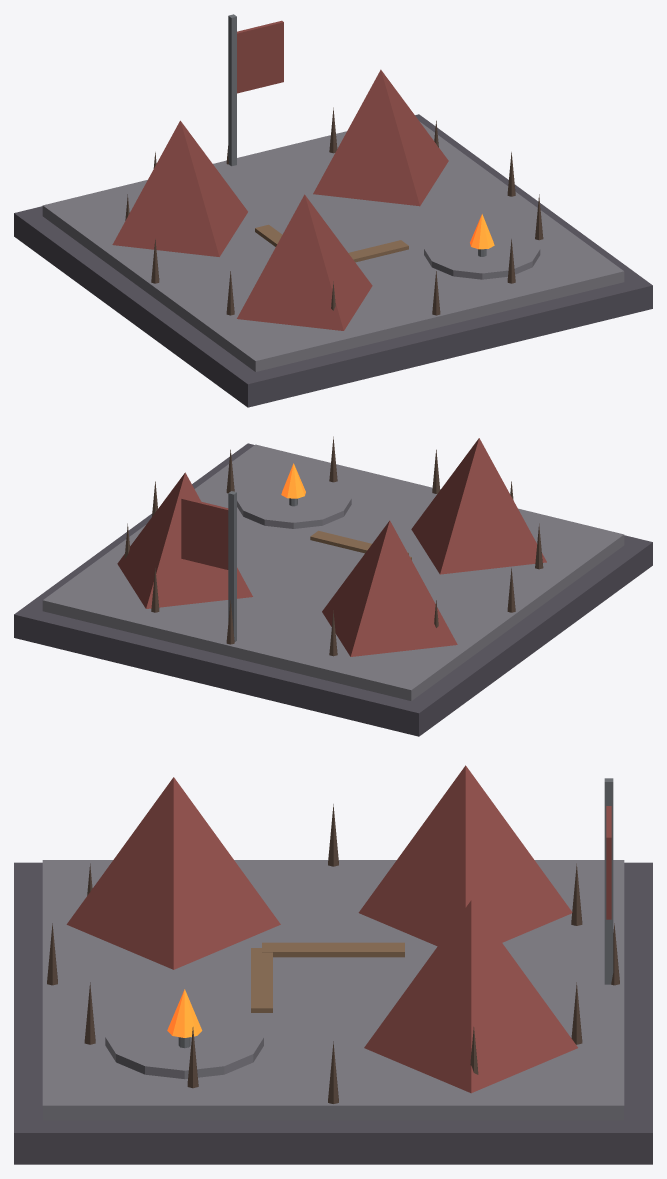
File: army_camp.glb
3 renders of one model, top to bottom at view 1: azimuth 30°, elevation 25°; view 2: azimuth 150°, elevation 25°; view 3: azimuth 270°, elevation 25°, orthographic. The views are drawn at different scales.
Parts seen in each view (by area): view 1: Army Camp; view 2: Army Camp; view 3: Army Camp.
Boxes of the visible parts, x1=… form: Army Camp: x1=14, y1=14, x2=652, y2=407; Army Camp: x1=14, y1=436, x2=652, y2=736; Army Camp: x1=14, y1=765, x2=652, y2=1164.
Bounding box in the file's own units: 5.8 × 2.5 × 5.8.
